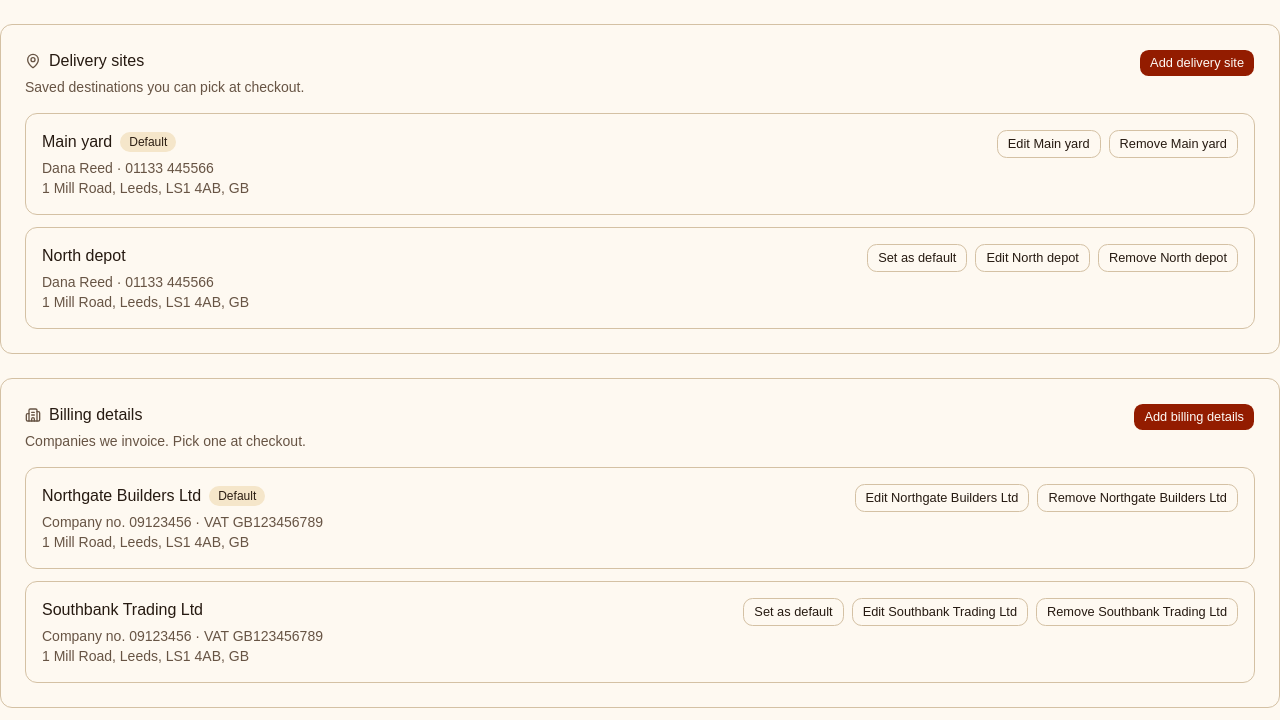
it: BillingEntitiesSection › surfaces a row action failure without clearing the list
Click the button "Remove Northgate Builders Ltd": (1138, 498) [1038,484,1238,512]
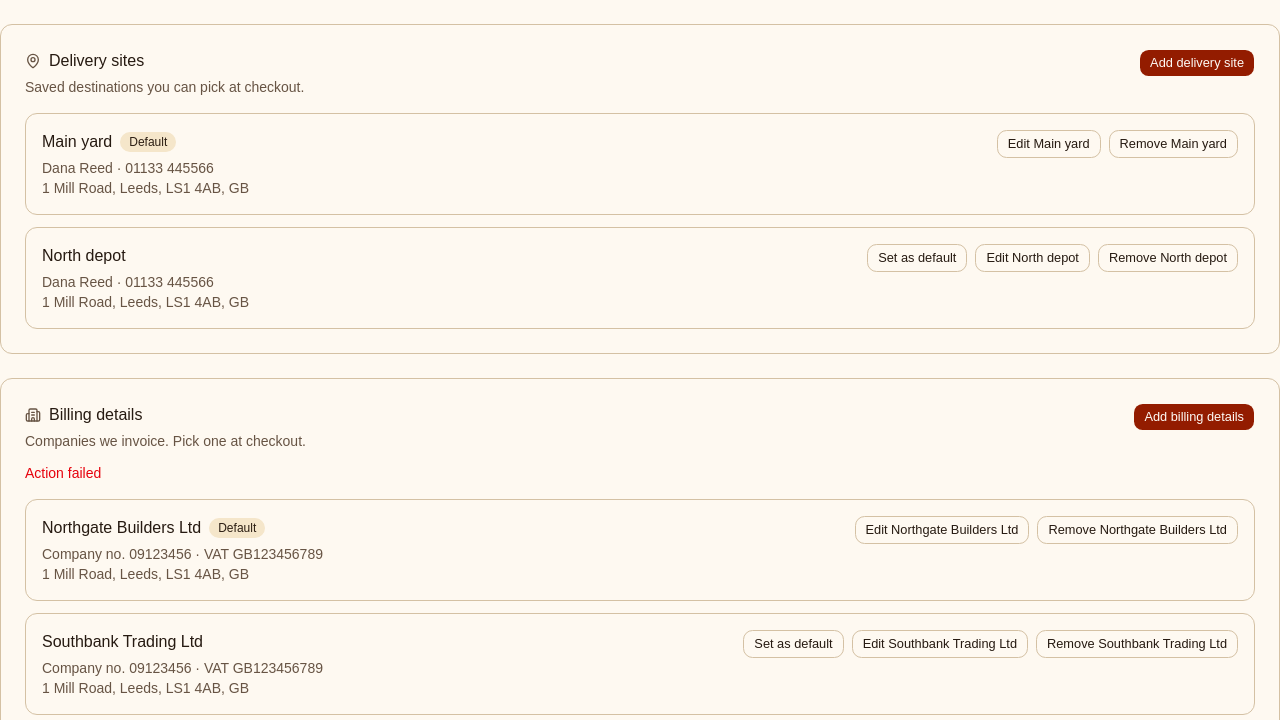
Expected: the text "Northgate Builders Ltd" is shown, [42,516,201,540]
Now the text "Action failed" is shown, box [25,465,101,481]
